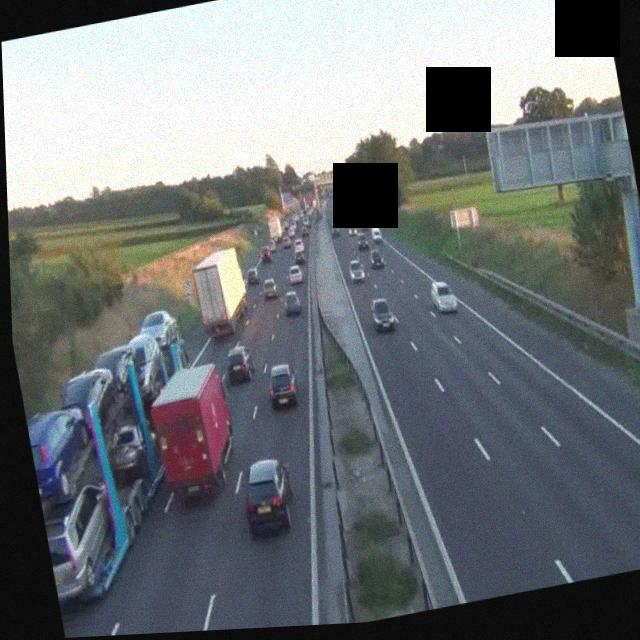car: (237, 455, 300, 539), (137, 306, 184, 359), (264, 360, 301, 411), (223, 341, 258, 385), (429, 277, 458, 316), (369, 296, 397, 333), (282, 290, 302, 315), (347, 258, 365, 284), (262, 278, 279, 300), (369, 246, 385, 269), (287, 266, 304, 287), (245, 265, 260, 285), (356, 231, 368, 251), (259, 245, 272, 263), (369, 226, 382, 244), (292, 238, 305, 256), (330, 222, 341, 238)
truck: (16, 336, 205, 603), (87, 334, 189, 485), (144, 362, 244, 505), (188, 245, 257, 343), (266, 211, 285, 246)
